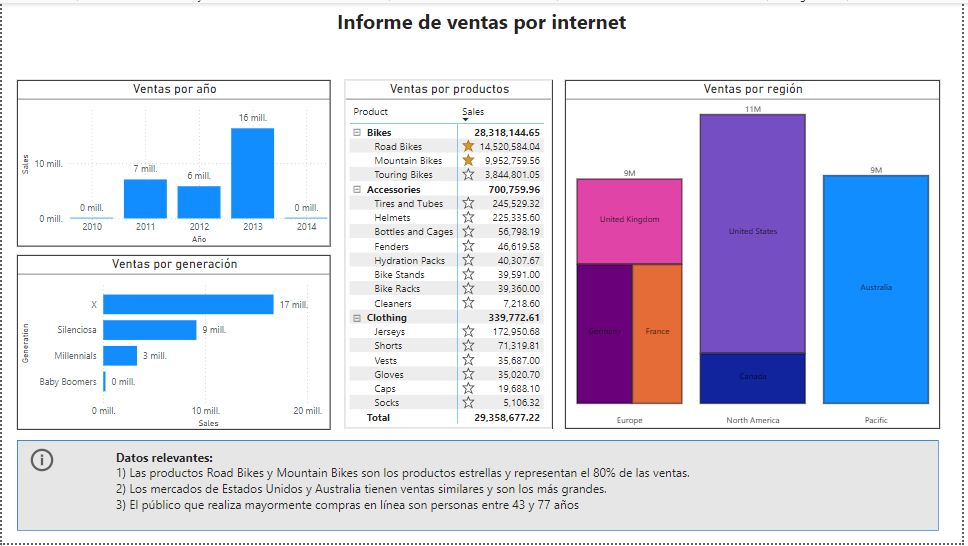

The page's visual inventory and layout, read from the dashboard file:
{"tool":"powerbi","page":{"name":"Página 1","canvas":[1280,720],"ordinal":0},"visuals":[{"type":"shape","box":[20,582.7,1229.3,121.3],"z":0},{"type":"textbox","box":[403.1,0,473.7,53.8],"z":1000},{"type":"pivotTable","title":"Ventas por productos","fields":{"Values":["Sum(Consulta1.SalesAmount)"],"Rows":["Consulta1.EnglishProductCategoryName","Consulta1.EnglishProductSubcategoryName"]},"box":[456.9,103.2,276.6,465.2],"z":2000},{"type":"treemapbarchart333E076637E345EDB9829C52846D5A31","title":"Ventas por región","fields":{"Axis":["Consulta1.Territory.SalesTerritoryGroup"],"Legend":["Consulta1.Territory.SalesTerritoryCountry"],"Value":["Sum(Consulta1.SalesAmount)"]},"box":[750.1,103.2,499.6,465.2],"z":3000},{"type":"clusteredBarChart","title":"Ventas por generación","fields":{"Category":["Consulta1.Generation"],"Y":["Sum(Consulta1.SalesAmount)"]},"box":[20.6,335.8,418.4,232.6],"z":4000},{"type":"columnChart","title":"Ventas por año","fields":{"Category":["Consulta1.OrderDate.Variación.Jerarquía de fechas.Año"],"Y":["Sum(Consulta1.SalesAmount)"]},"box":[20.6,103.2,418.4,221.6],"z":5000},{"type":"textbox","box":[146.7,589.3,1086.7,114.7],"z":6000},{"type":"actionButton","box":[33.3,589.3,45.3,40],"z":6001}]}

Visuals, with their boxes in screenshot pixels (x1, y1, x2, y2), scaled from the page's 1280x720 canvas onto the 968x546 screenshot:
shape: region(15, 442, 945, 534)
textbox: region(305, 0, 663, 41)
"Ventas por productos" pivotTable: region(346, 78, 555, 431)
"Ventas por región" treemapbarchart333E076637E345EDB9829C52846D5A31: region(567, 78, 945, 431)
"Ventas por generación" clusteredBarChart: region(16, 255, 332, 431)
"Ventas por año" columnChart: region(16, 78, 332, 246)
textbox: region(111, 447, 933, 534)
actionButton: region(25, 447, 59, 477)
